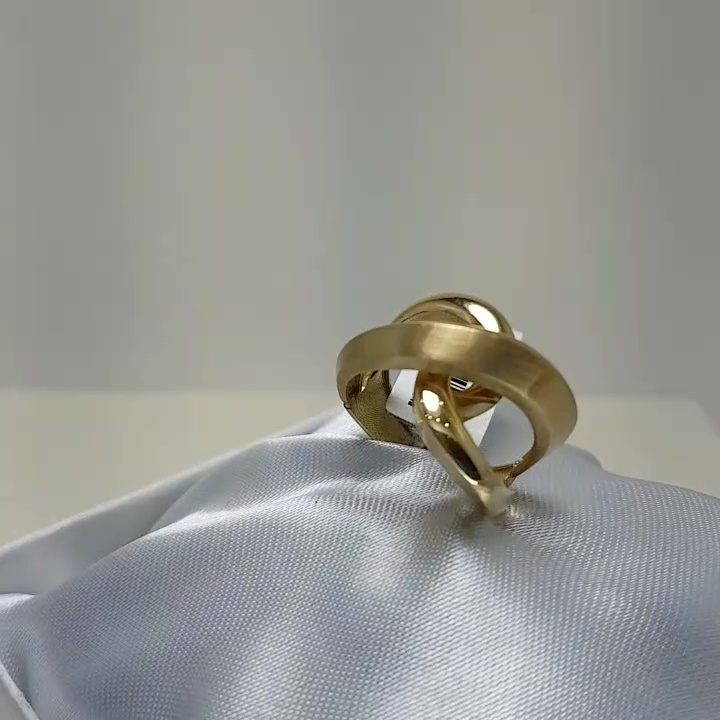Ring 3: (309, 278, 591, 543)
